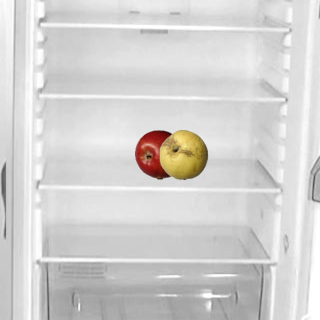Apple Braeburn: (134, 129, 184, 179)
Apple Golden 1: (158, 129, 208, 179)
